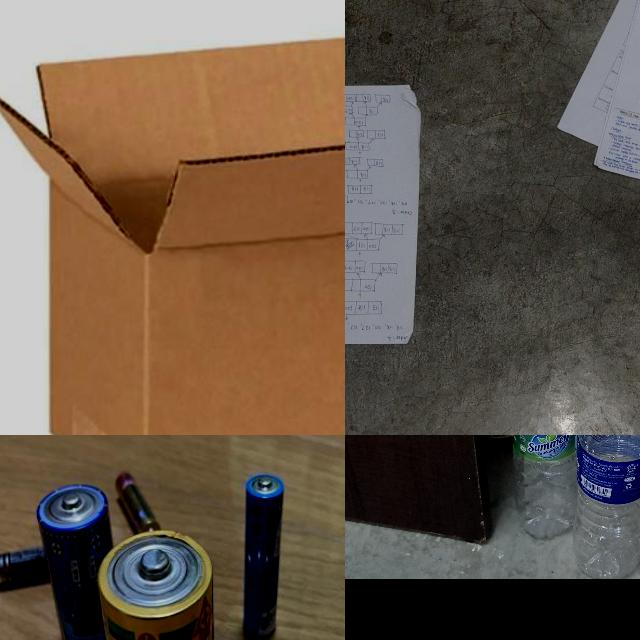bateria: (35, 482, 124, 640), (96, 529, 221, 640), (241, 471, 288, 640), (118, 464, 160, 544), (0, 541, 54, 595)
garrafa plástica: (579, 435, 640, 578), (506, 435, 585, 536)
papel: (345, 78, 419, 349), (561, 0, 640, 195)
papelão: (0, 32, 345, 435)
